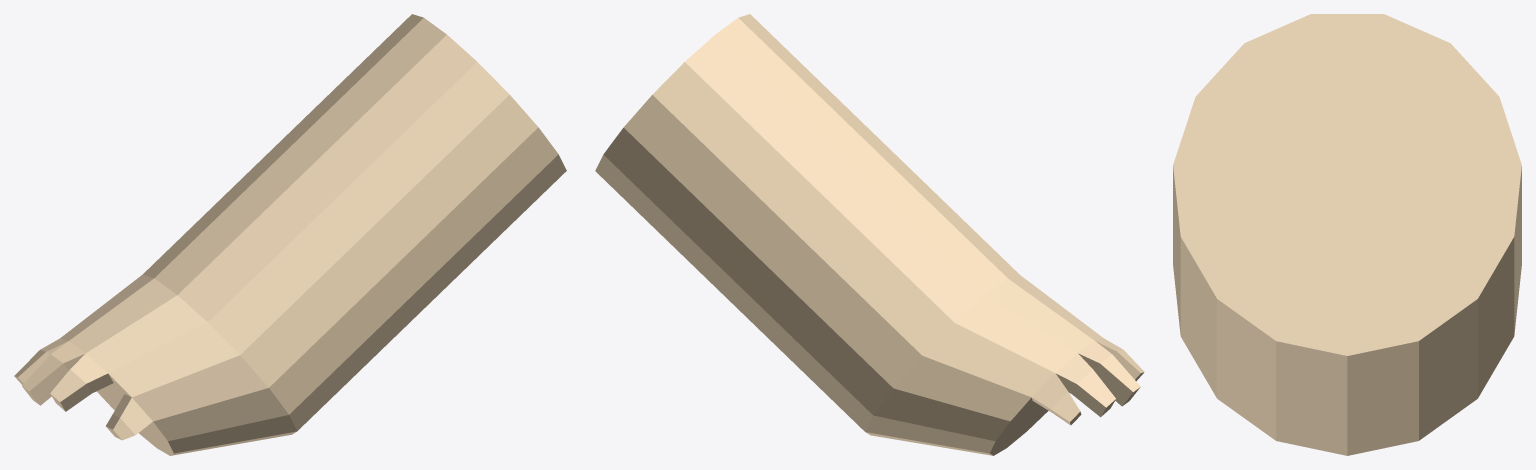
Rendered from dodolefthand.glb.
The picture shows the model from 3 angles, left to right: view 1: azimuth 30°, elevation 25°; view 2: azimuth 150°, elevation 25°; view 3: azimuth 270°, elevation 25°; orthographic projection. The views are drawn at different scales.
Bounding box in the file's own units: 6.88 × 4.55 × 2.54.
